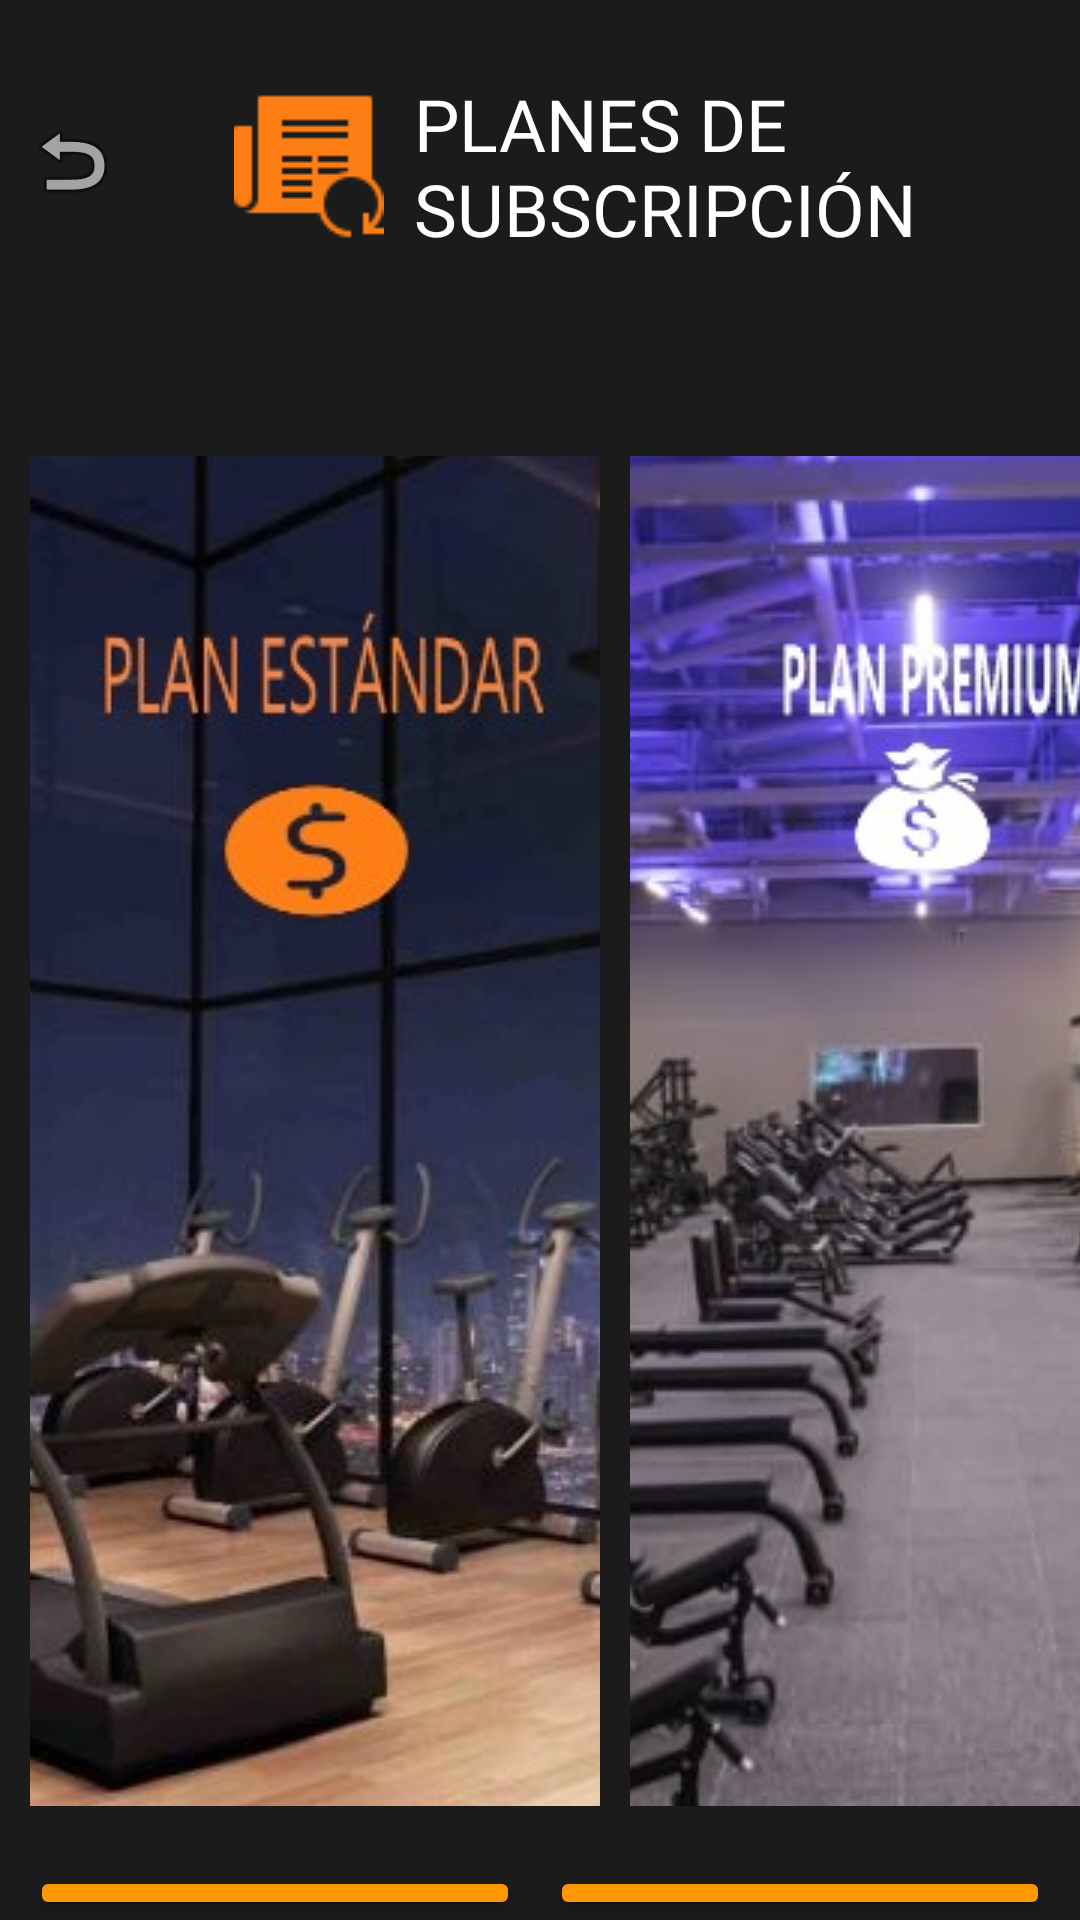

Where to tap for icons on this 1080x1920 app screen, as (x=x, y=y):
renew: (x=309, y=166)
volver: (x=73, y=161)
